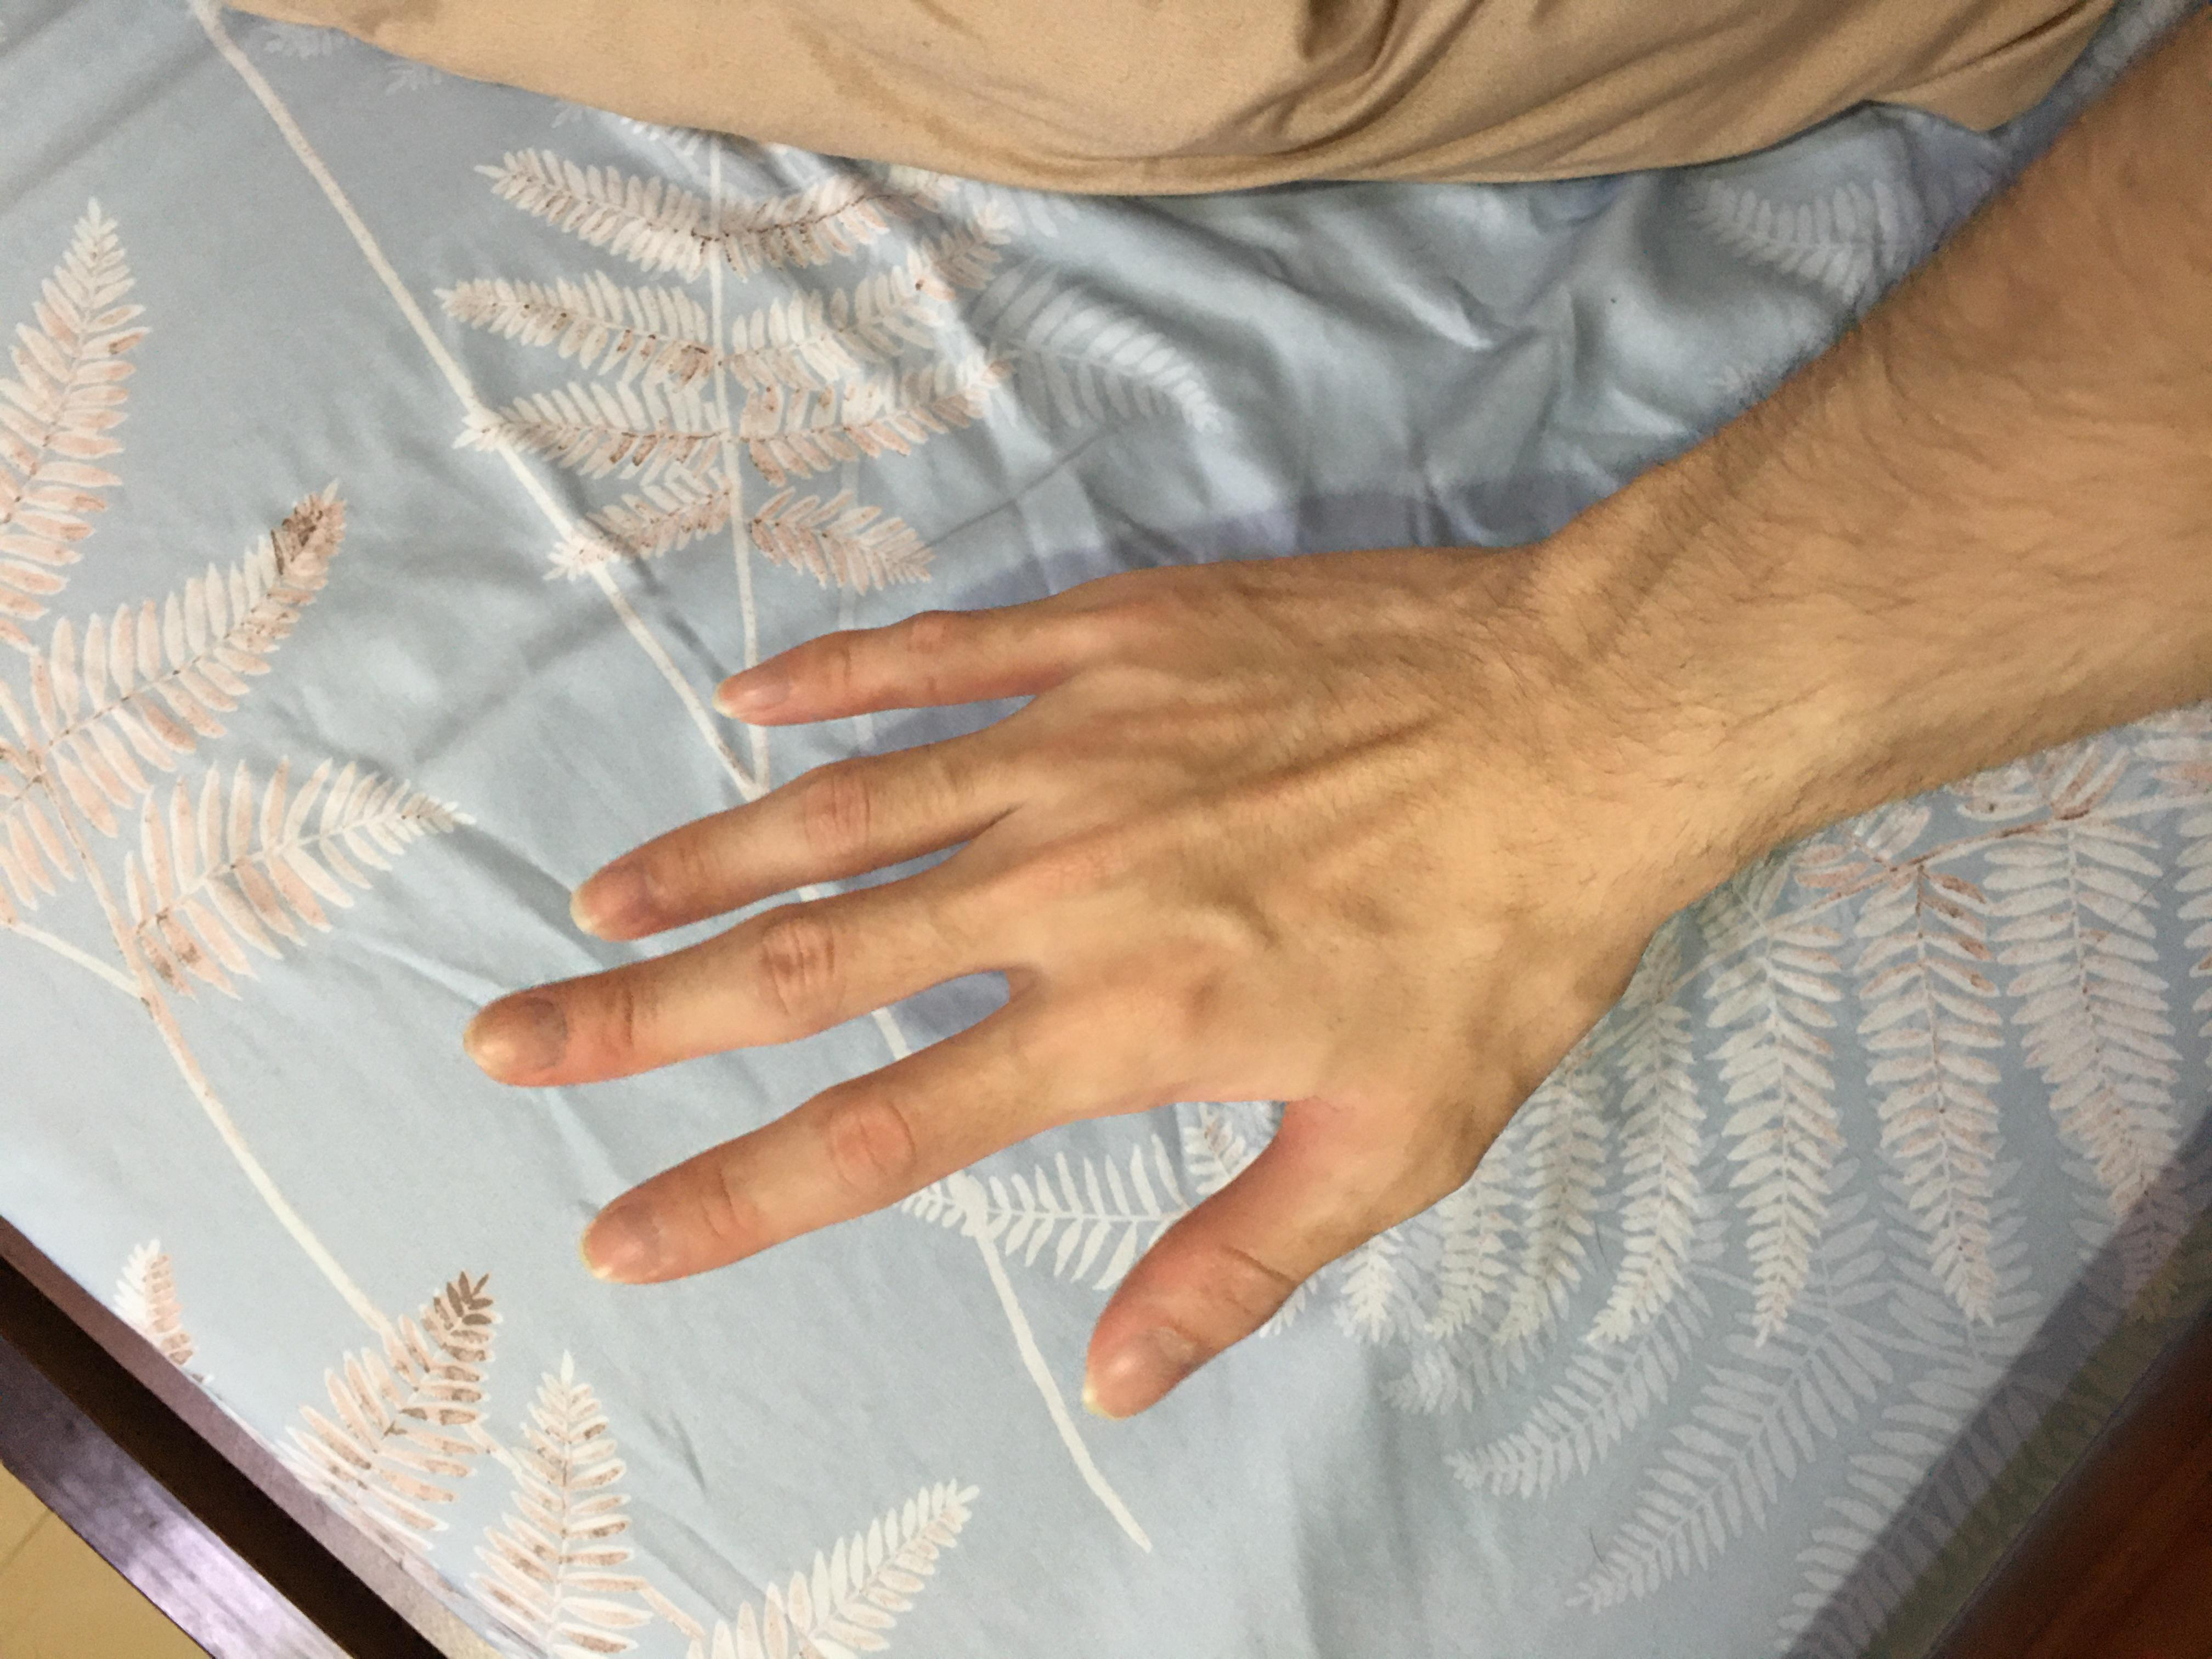hand: (307, 338, 1489, 1201)
